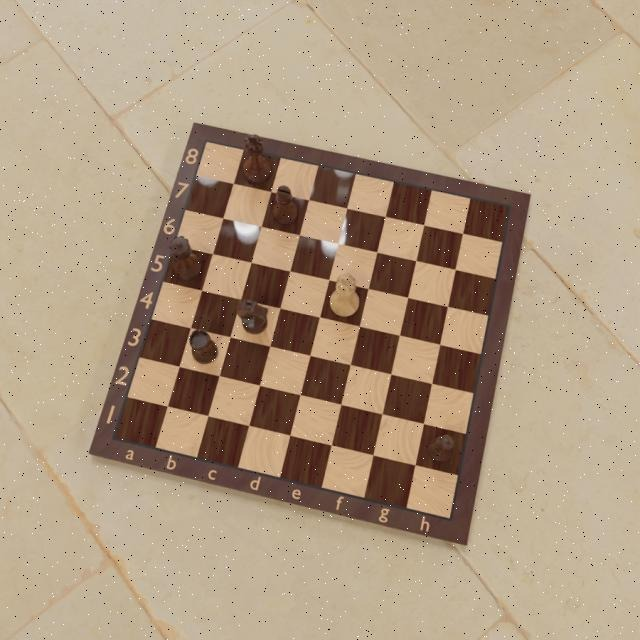black-bishop: (273, 184, 301, 226)
black-king: (242, 133, 274, 185)
black-knight: (234, 298, 270, 338)
black-pawn: (427, 434, 457, 464)
black-queen: (166, 235, 206, 284)
black-rook: (188, 330, 220, 366)
white-king: (330, 271, 362, 318)
